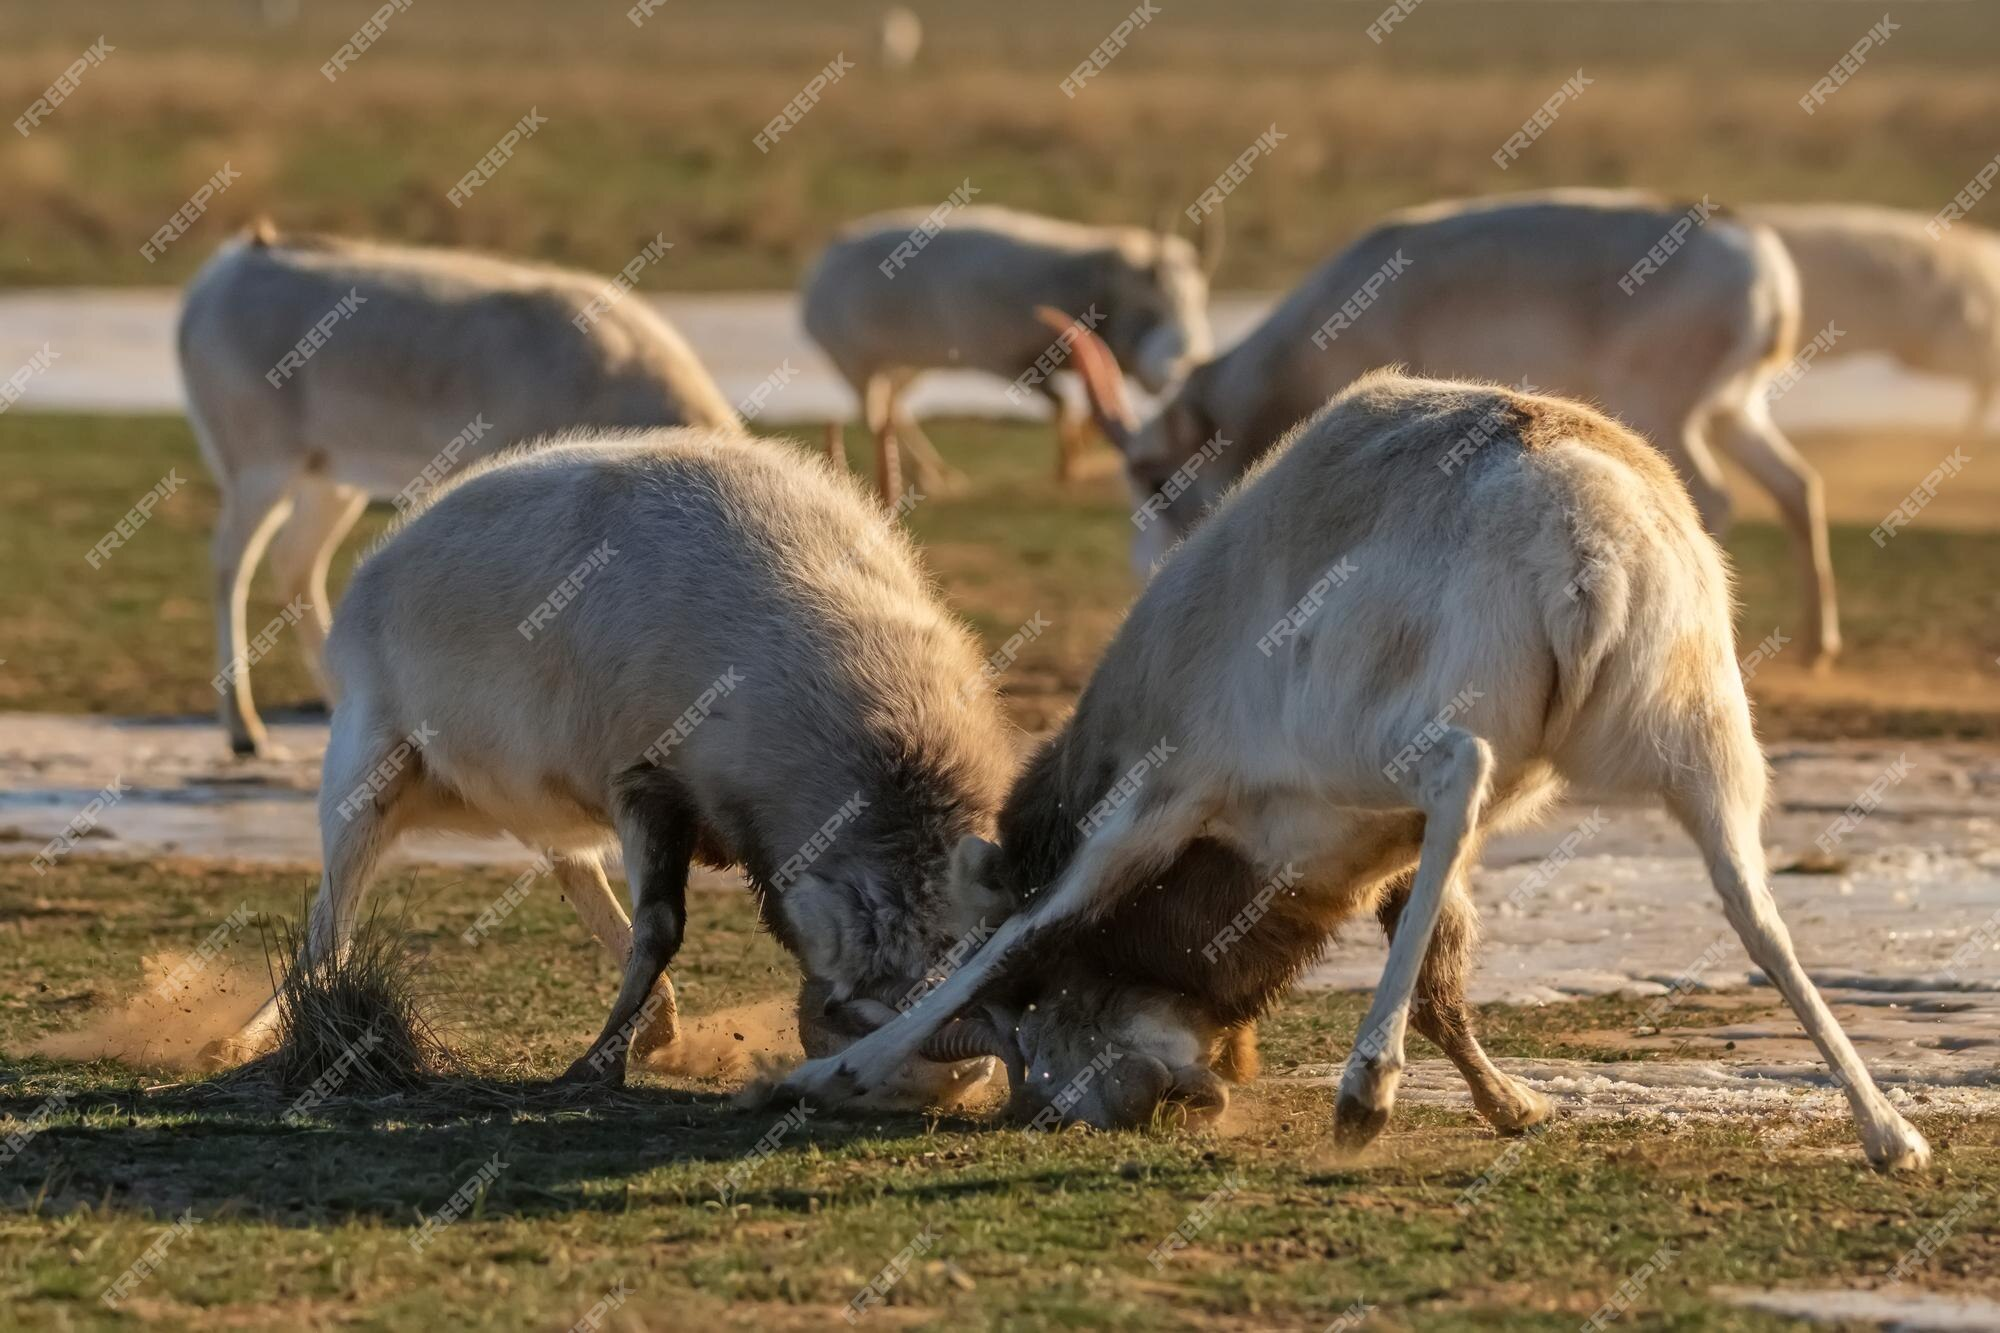saiga: (794, 364, 1958, 1253), (278, 425, 1036, 1160)
